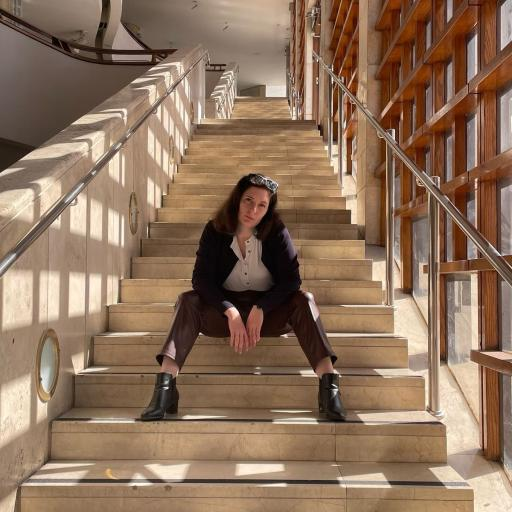laptop: (0, 93, 479, 510), (129, 170, 368, 440)
